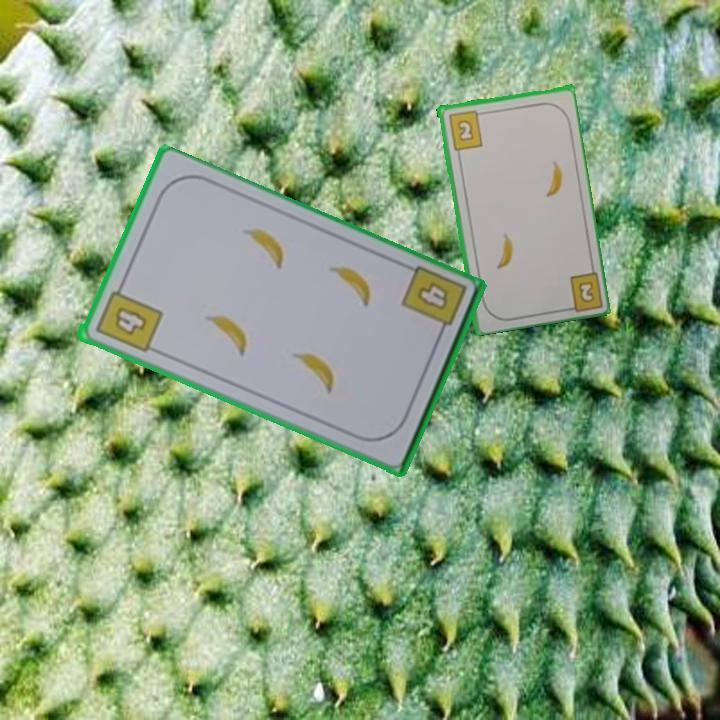2b: (445, 106, 487, 152), (575, 278, 597, 305)
4b: (91, 279, 165, 356), (412, 278, 451, 314)
